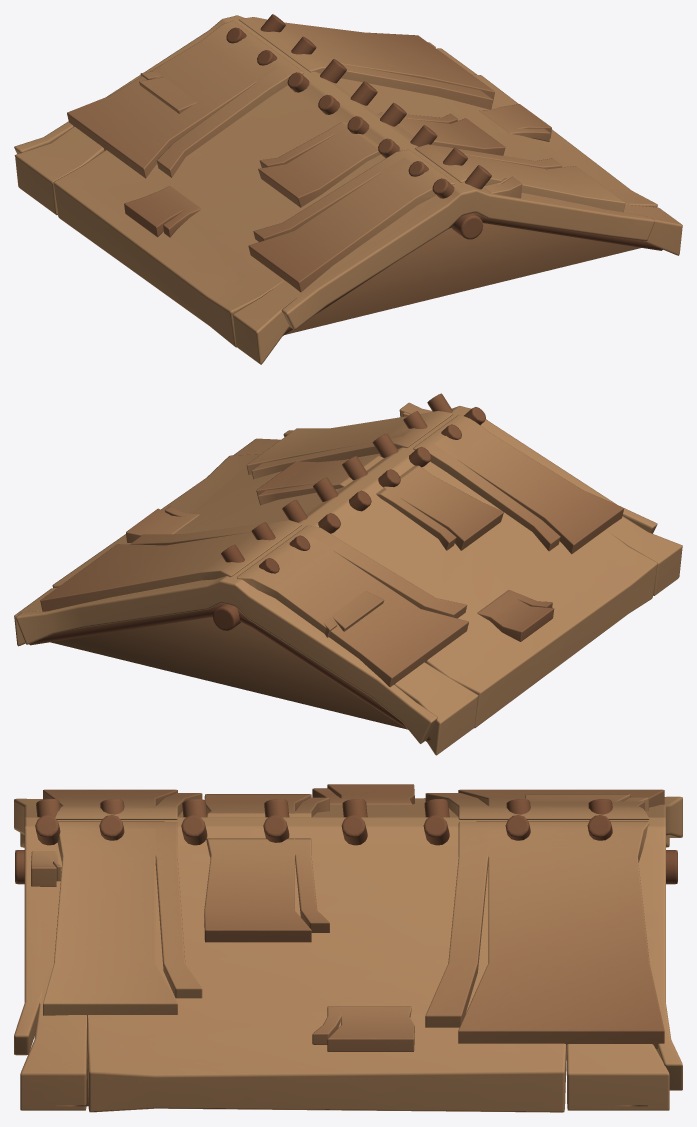
File: SM_Clay_Roof_02.fbx
3 renders of one model, top to bottom at view 1: azimuth 30°, elevation 25°; view 2: azimuth 150°, elevation 25°; view 3: azimuth 270°, elevation 25°, orthographic. The views are drawn at different scales.
Visible parts, largest first — view 1: SM_Clay_Roof_02; view 2: SM_Clay_Roof_02; view 3: SM_Clay_Roof_02.
Part boxes in pixels (bbox=[...]): SM_Clay_Roof_02: bbox=[14, 14, 682, 364]; SM_Clay_Roof_02: bbox=[14, 393, 682, 755]; SM_Clay_Roof_02: bbox=[14, 784, 682, 1112].
Bounding box in the file's own units: 2.02 × 0.6192 × 2.04.
Materials: 1 (1 with a texture image).
